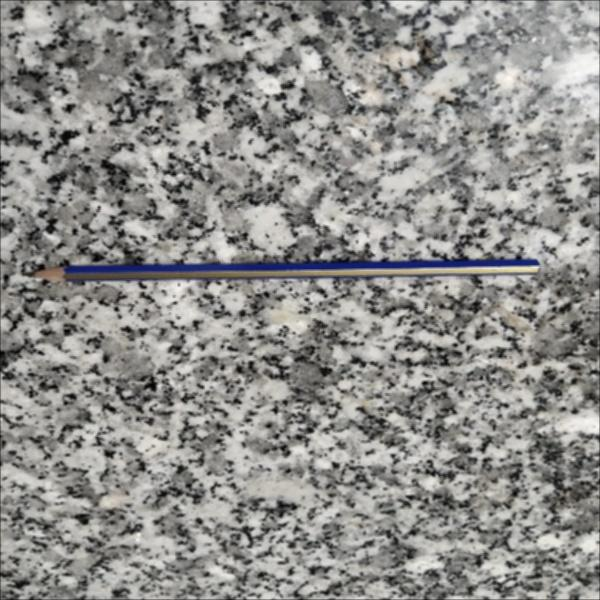pencil: (21, 252, 542, 289)
